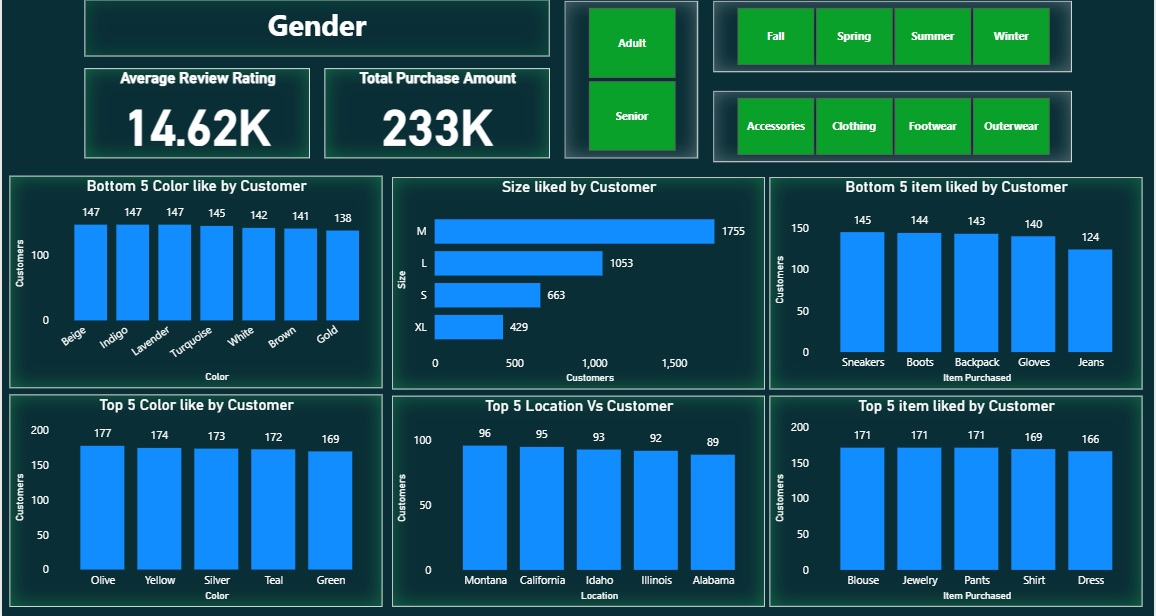

The dashboard page shown, as its layout file describes it:
{"tool":"powerbi","page":{"name":"Gender","canvas":[1280,720],"ordinal":1},"visuals":[{"type":"columnChart","title":"Top 5 Color like by Customer","fields":{"Category":["shopping_trends_updated.Color"],"Y":["CountNonNull(shopping_trends_updated.Customer ID)"]},"box":[9,470,414.3,235.7],"z":0},{"type":"columnChart","title":"Bottom 5 Color like by Customer","fields":{"Category":["shopping_trends_updated.Color"],"Y":["CountNonNull(shopping_trends_updated.Customer ID)"]},"box":[8.6,226.1,414.4,235.9],"z":1000},{"type":"columnChart","title":"Top 5 Location Vs Customer","fields":{"Category":["shopping_trends_updated.Location"],"Y":["CountNonNull(shopping_trends_updated.Customer ID)"]},"box":[432.7,470.6,414.4,234.7],"z":2000},{"type":"barChart","title":"Size liked by Customer","fields":{"Category":["shopping_trends_updated.Size"],"Y":["CountNonNull(shopping_trends_updated.Customer ID)"]},"box":[432.7,227.4,414.4,235.9],"z":3000},{"type":"columnChart","title":"Top 5 item liked by Customer","fields":{"Category":["shopping_trends_updated.Item Purchased"],"Y":["CountNonNull(shopping_trends_updated.Customer ID)"]},"box":[853.2,470.6,414.4,234.7],"z":4000},{"type":"columnChart","title":"Bottom 5 item liked by Customer","fields":{"Category":["shopping_trends_updated.Item Purchased"],"Y":["CountNonNull(shopping_trends_updated.Customer ID)"]},"box":[852.9,227.1,414.3,235.7],"z":5000},{"type":"card","title":"Average Review Rating","fields":{"Values":["Sum(shopping_trends_updated.Review Rating)"]},"box":[91.7,106.3,250.6,100.2],"z":6000},{"type":"card","title":"Total Purchase Amount","fields":{"Values":["Sum(shopping_trends_updated.Purchase Amount (USD))"]},"box":[358.2,106.3,250.6,100.2],"z":7000},{"type":"slicer","fields":{"Values":["shopping_trends_updated.Age Group"]},"box":[624.7,31.8,147.9,174.8],"z":8000},{"type":"slicer","fields":{"Values":["shopping_trends_updated.Category"]},"box":[790.9,132,398.5,79.5],"z":9000},{"type":"slicer","fields":{"Values":["shopping_trends_updated.Season"]},"box":[790.9,31.8,398.5,79.5],"z":10000},{"type":"textbox","box":[91,31,517,63],"z":11000}]}

Visuals, with their boxes on the page's 1280x720 design canvas (x1, y1, x2, y2). These are canvas units, not pixel positions in the 1156x616 screenshot, which may show the page scaled, cropped or inside an application window:
"Top 5 Color like by Customer" columnChart: Rect(9, 470, 423, 706)
"Bottom 5 Color like by Customer" columnChart: Rect(9, 226, 423, 462)
"Top 5 Location Vs Customer" columnChart: Rect(433, 471, 847, 705)
"Size liked by Customer" barChart: Rect(433, 227, 847, 463)
"Top 5 item liked by Customer" columnChart: Rect(853, 471, 1268, 705)
"Bottom 5 item liked by Customer" columnChart: Rect(853, 227, 1267, 463)
"Average Review Rating" card: Rect(92, 106, 342, 206)
"Total Purchase Amount" card: Rect(358, 106, 609, 206)
slicer - shopping_trends_updated.Age Group: Rect(625, 32, 773, 207)
slicer - shopping_trends_updated.Category: Rect(791, 132, 1189, 212)
slicer - shopping_trends_updated.Season: Rect(791, 32, 1189, 111)
textbox: Rect(91, 31, 608, 94)
